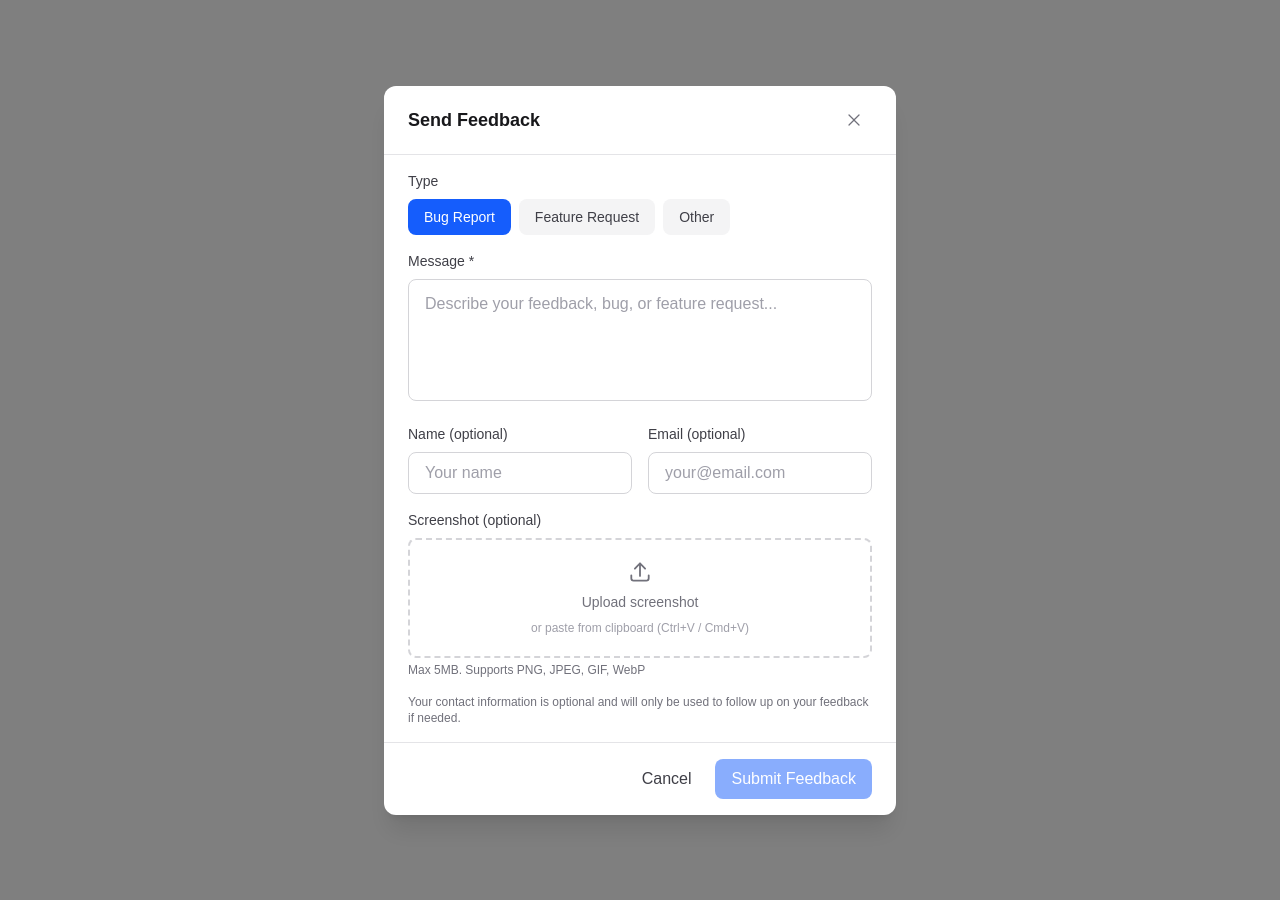
Scenario: FeedbackModal › shows error for message too short
Step 1. Type "Short" into the text box with test id "feedback-message" → (640, 340), box [408,278,872,400]
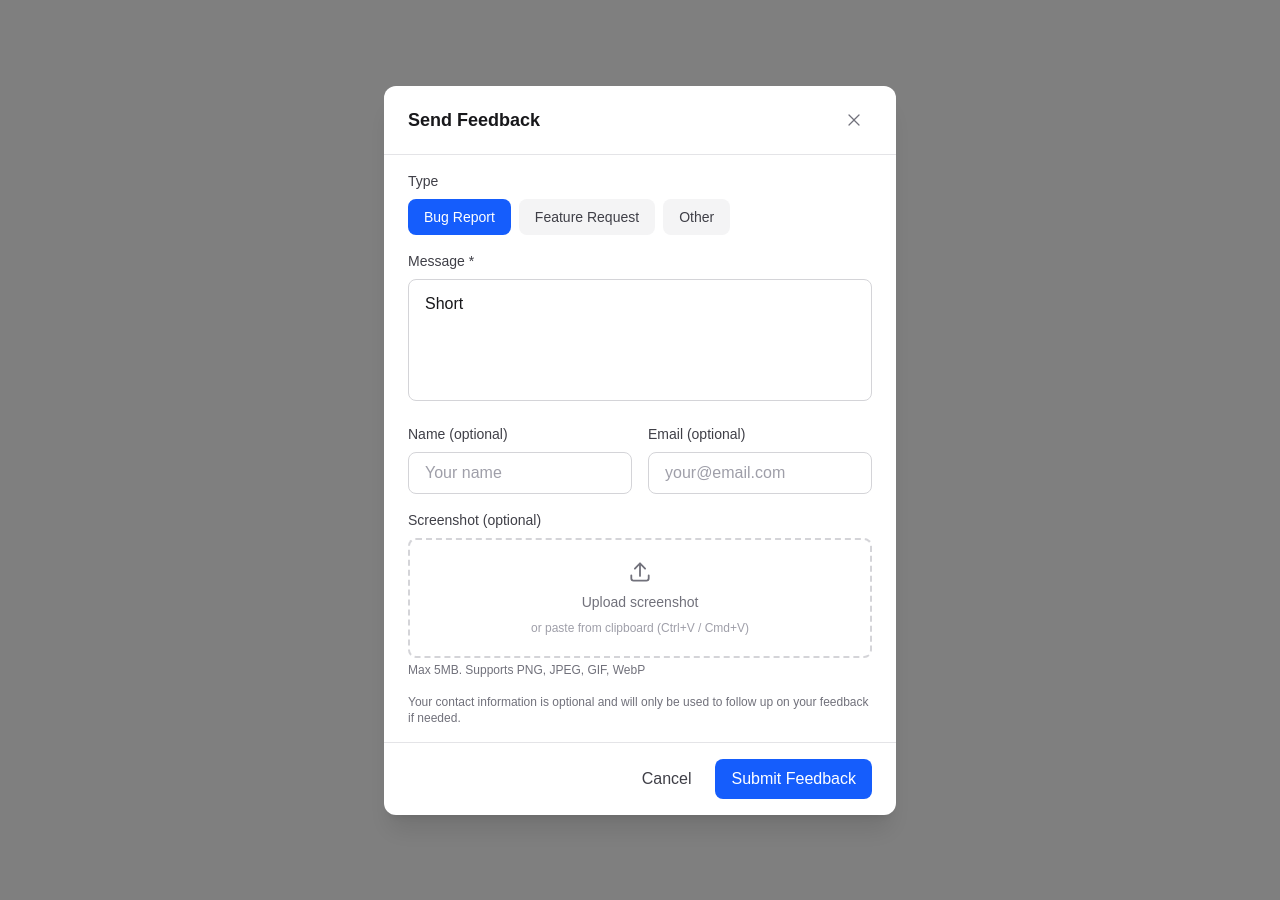
Step 2. Click the button with test id "submit-feedback" → (794, 778), box [716,758,872,798]
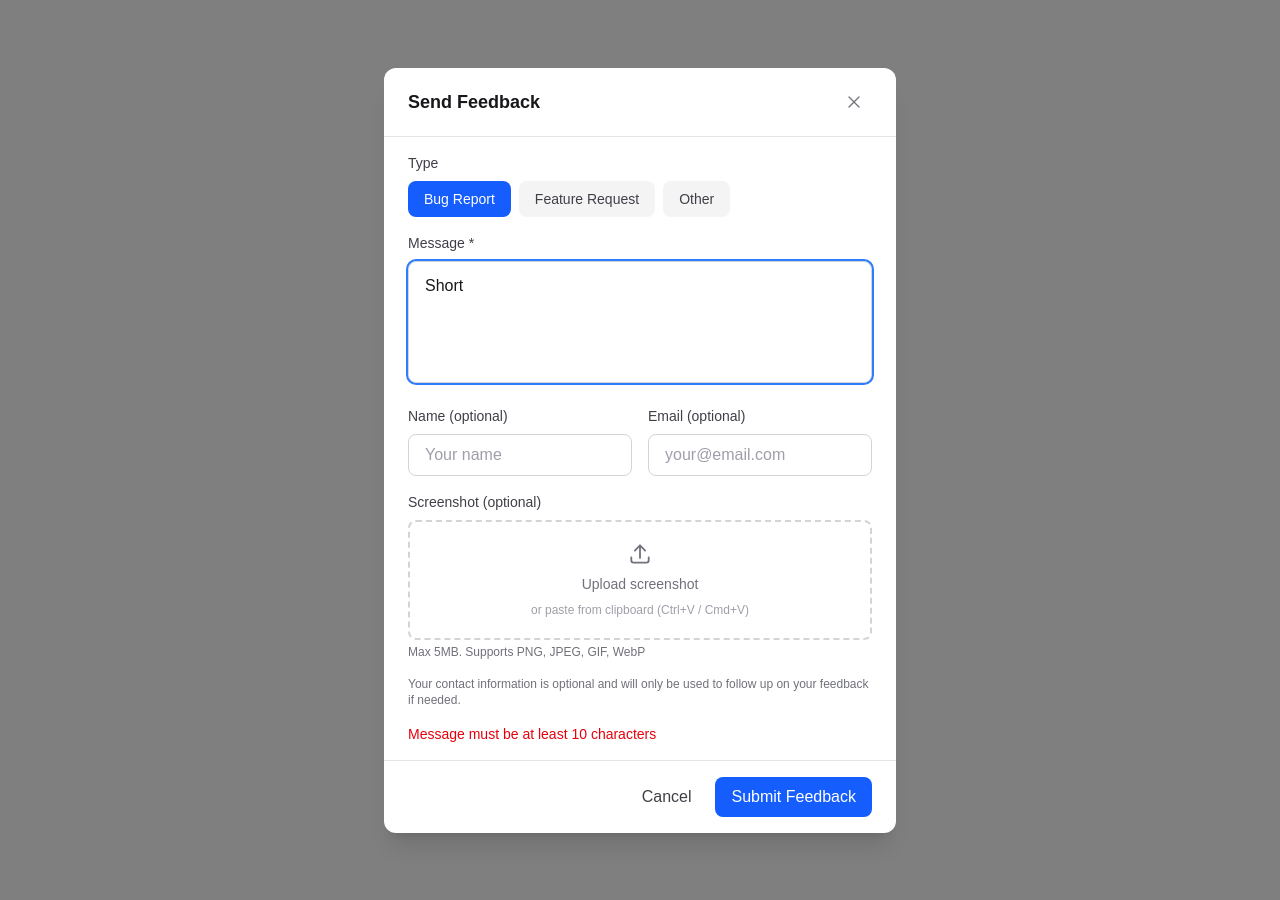
Expected: the text "Message must be at least 10 characters" is shown, [408,726,656,742]
